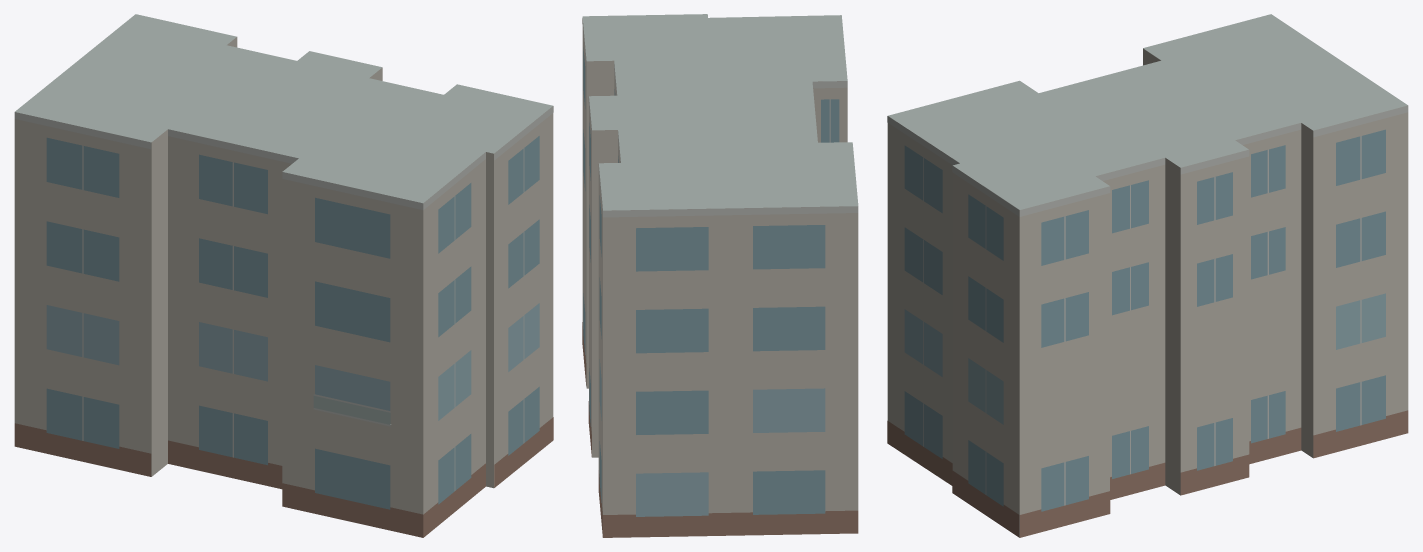
File: survey-upis-32868693.glb
The picture shows the model from 3 angles, left to right: view 1: azimuth 30°, elevation 25°; view 2: azimuth 150°, elevation 25°; view 3: azimuth 270°, elevation 25°; orthographic projection. The views are drawn at different scales.
Parts seen in each view (by area): view 1: survey-upis-32868693.tmp; view 2: survey-upis-32868693.tmp; view 3: survey-upis-32868693.tmp.
Part boxes in pixels (<box>): survey-upis-32868693.tmp: <box>14,14,553,537</box>; survey-upis-32868693.tmp: <box>582,14,858,537</box>; survey-upis-32868693.tmp: <box>887,14,1408,537</box>.
Bounding box in the file's own units: 15.03 × 11.7 × 16.86.
